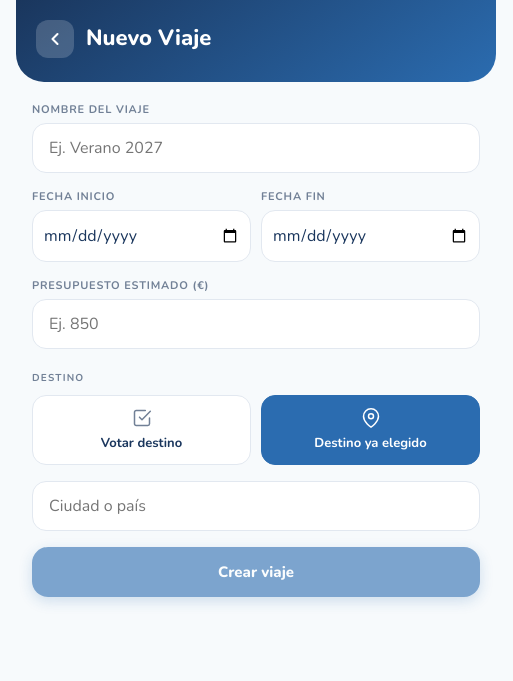
Test case: CrearViaje › muestra el error del backend y deja volver a intentarlo
This screenshot has width=513, height=681.
In the field labelled "Nombre del viaje": (256,148) [32,123,480,173], type "  Roma 2027  "
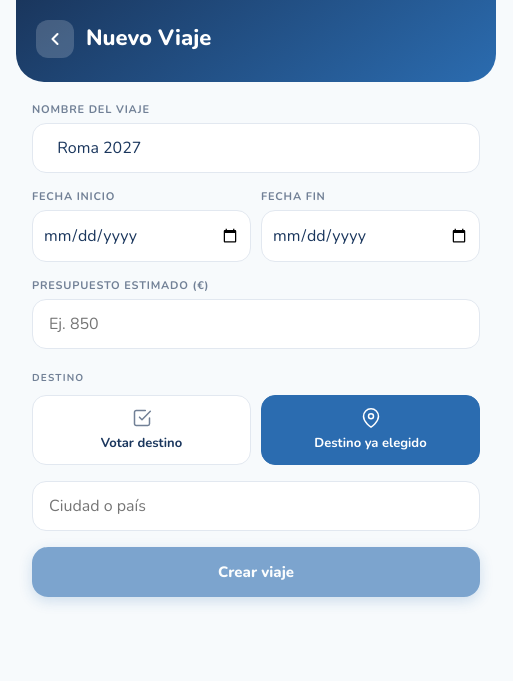
In the number field labelled "Presupuesto estimado (€)": (256,324) [32,299,480,349], type "850"
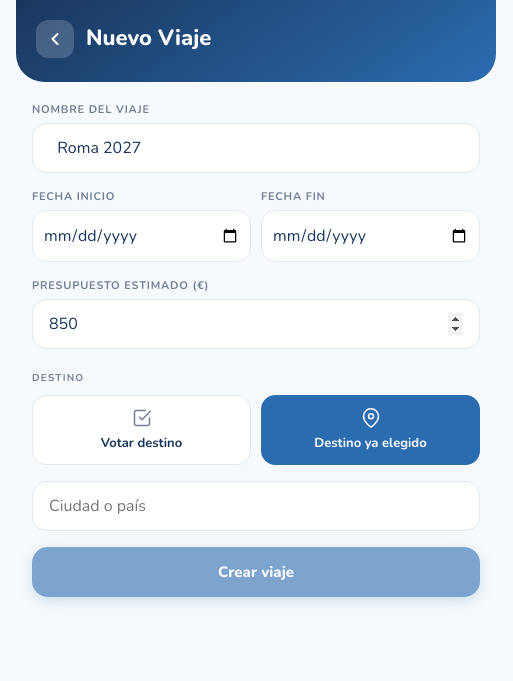
In the field with placeholder "Ciudad o país": (256,506) [32,481,480,531], type " Roma "
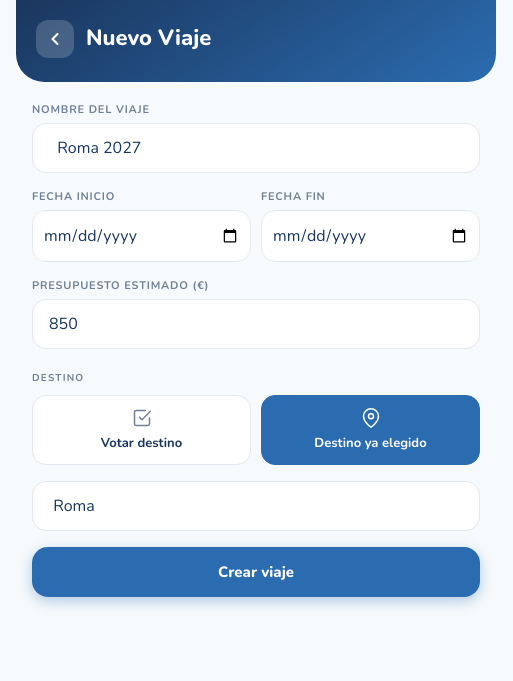
Click the button "Crear viaje": (256,572) [32,547,480,597]
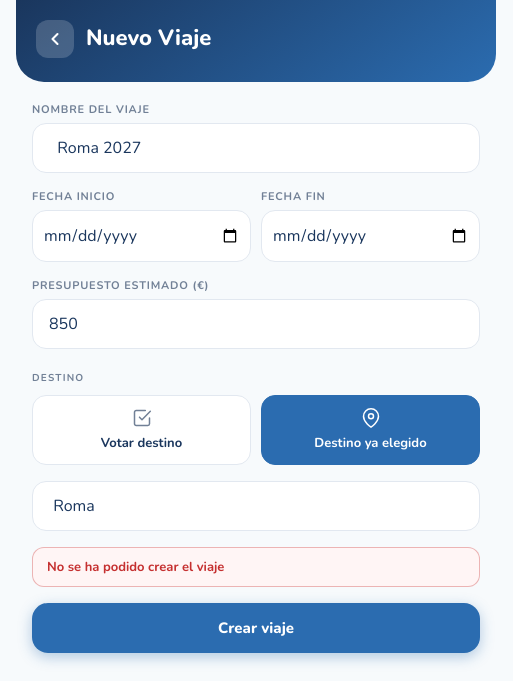
expect the button "Crear viaje" is enabled: met, box [32,603,480,653]
expect the message reads "No se ha podido crear el viaje": met, box [47,558,224,576]
